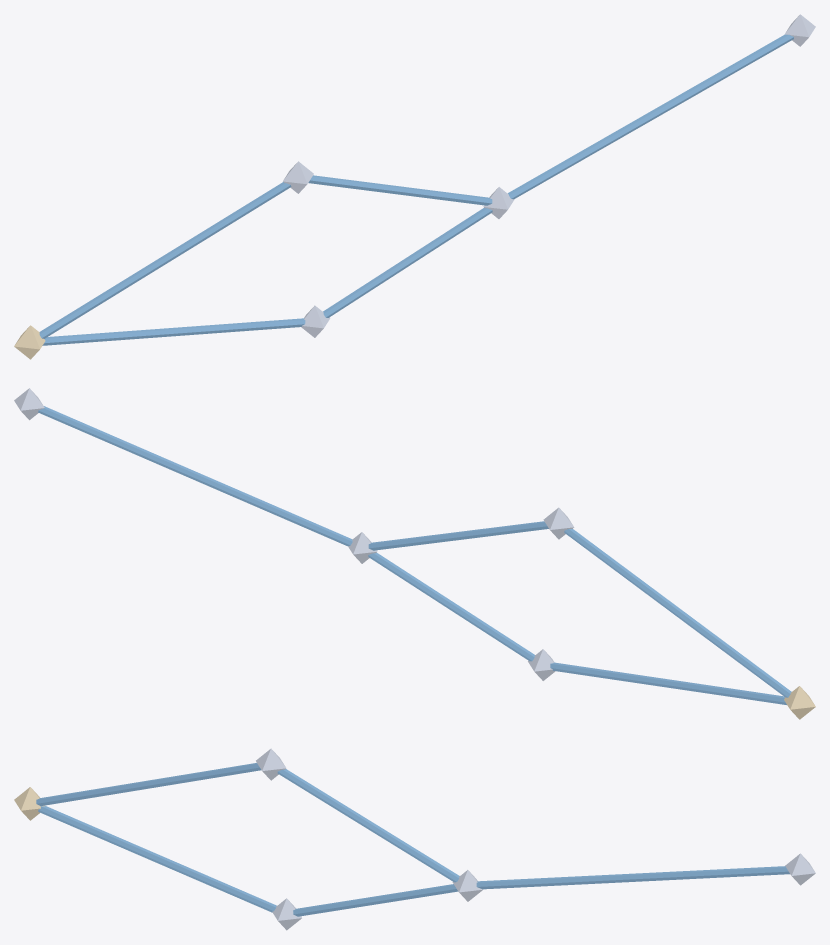
File: constellation-lmi.glb
3 views of the same model, one above another, from view 1: azimuth 30°, elevation 25°; view 2: azimuth 150°, elevation 25°; view 3: azimuth 330°, elevation 25° (orthographic).
Bounding box in the file's own units: 1.75 × 0.3888 × 0.1361.
